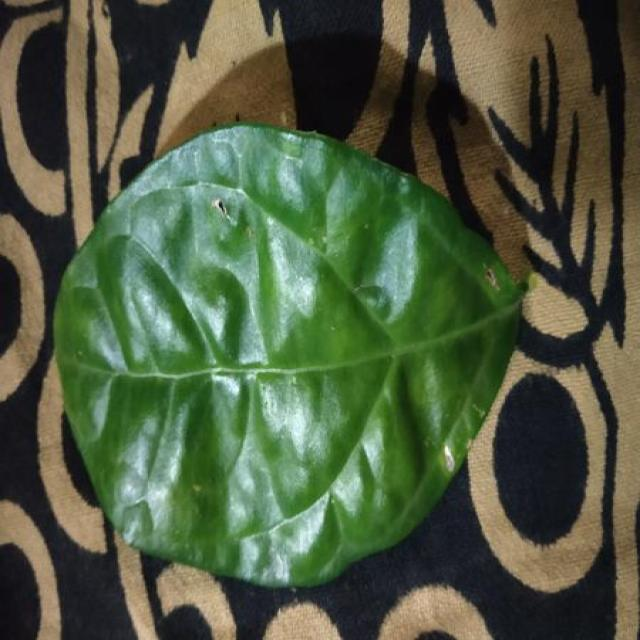Jasmine: (55, 124, 522, 586)
